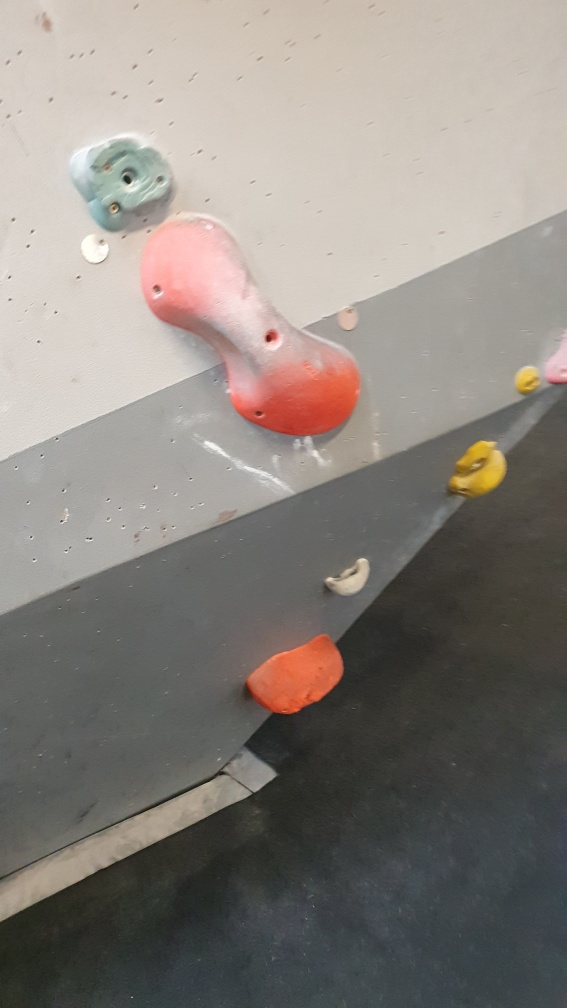Pinch: (138, 213, 366, 441)
